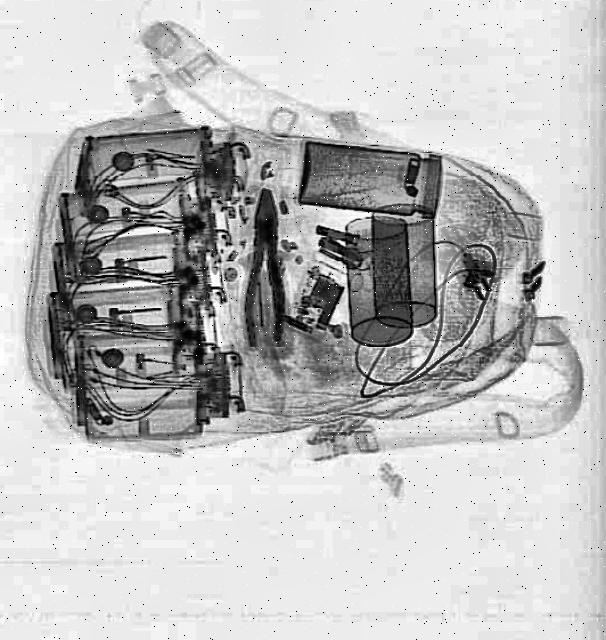Pliers: (244, 188, 288, 348)
